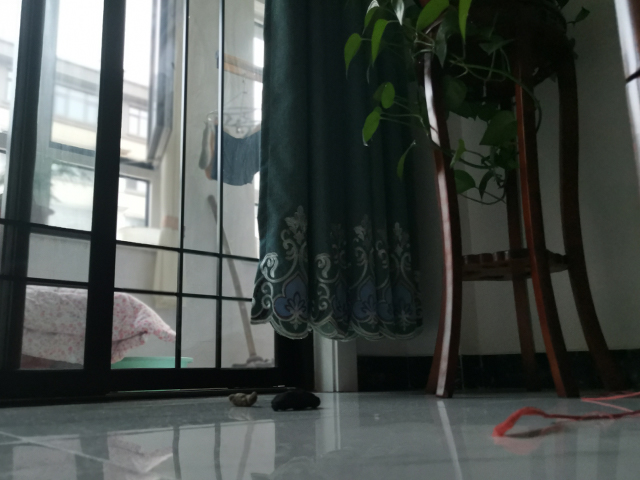curtain: (247, 1, 426, 342)
feces: (268, 388, 322, 413), (226, 390, 258, 408)
